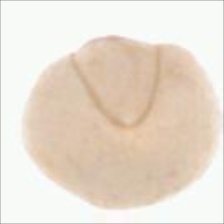L5: (68, 32, 167, 133), (89, 192, 180, 210)
L6: (19, 32, 224, 213)
